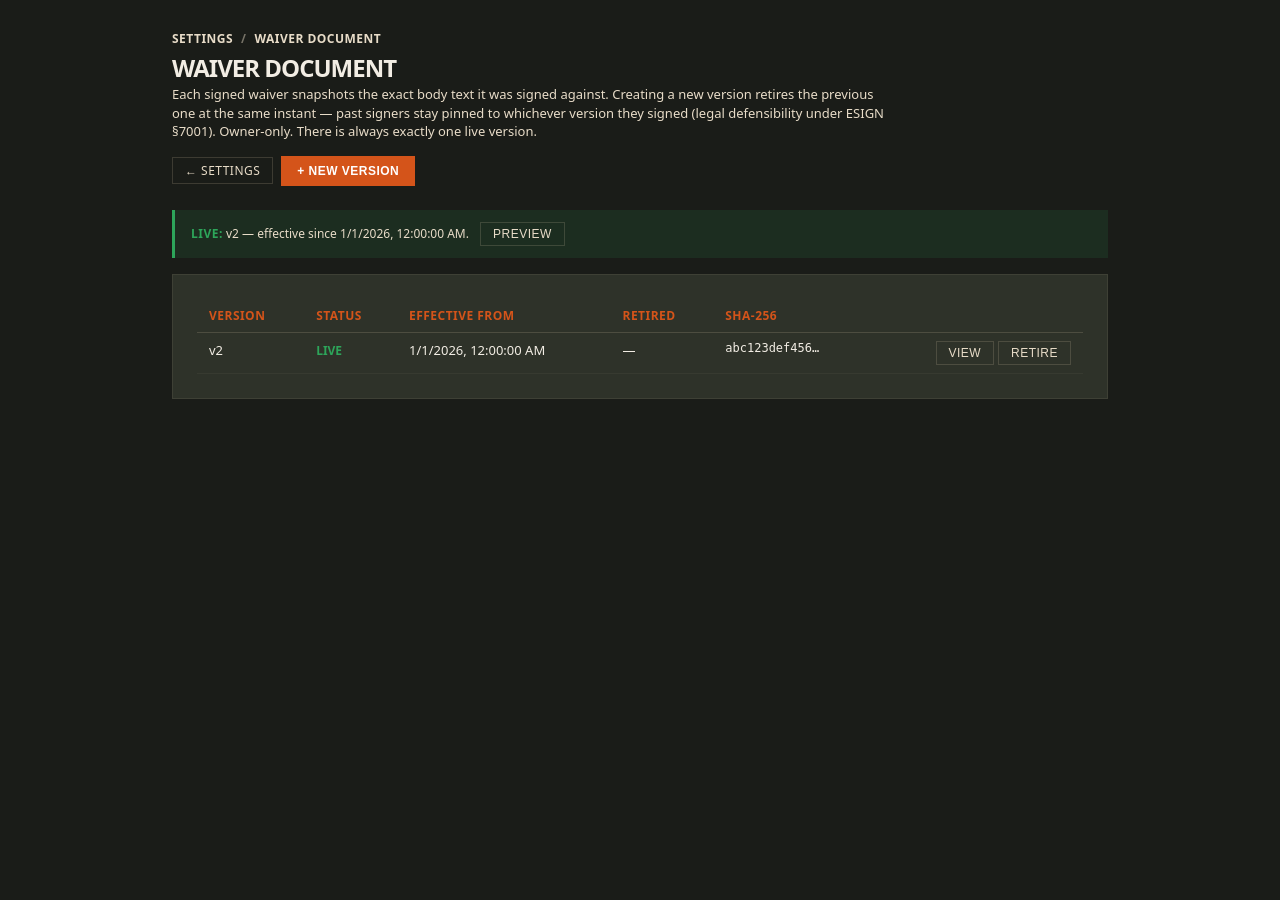
Scenario: AdminWaivers › opens the View modal with the full SHA-256 and rendered body
Click the button "View" at (965, 353), box [936, 341, 994, 365]
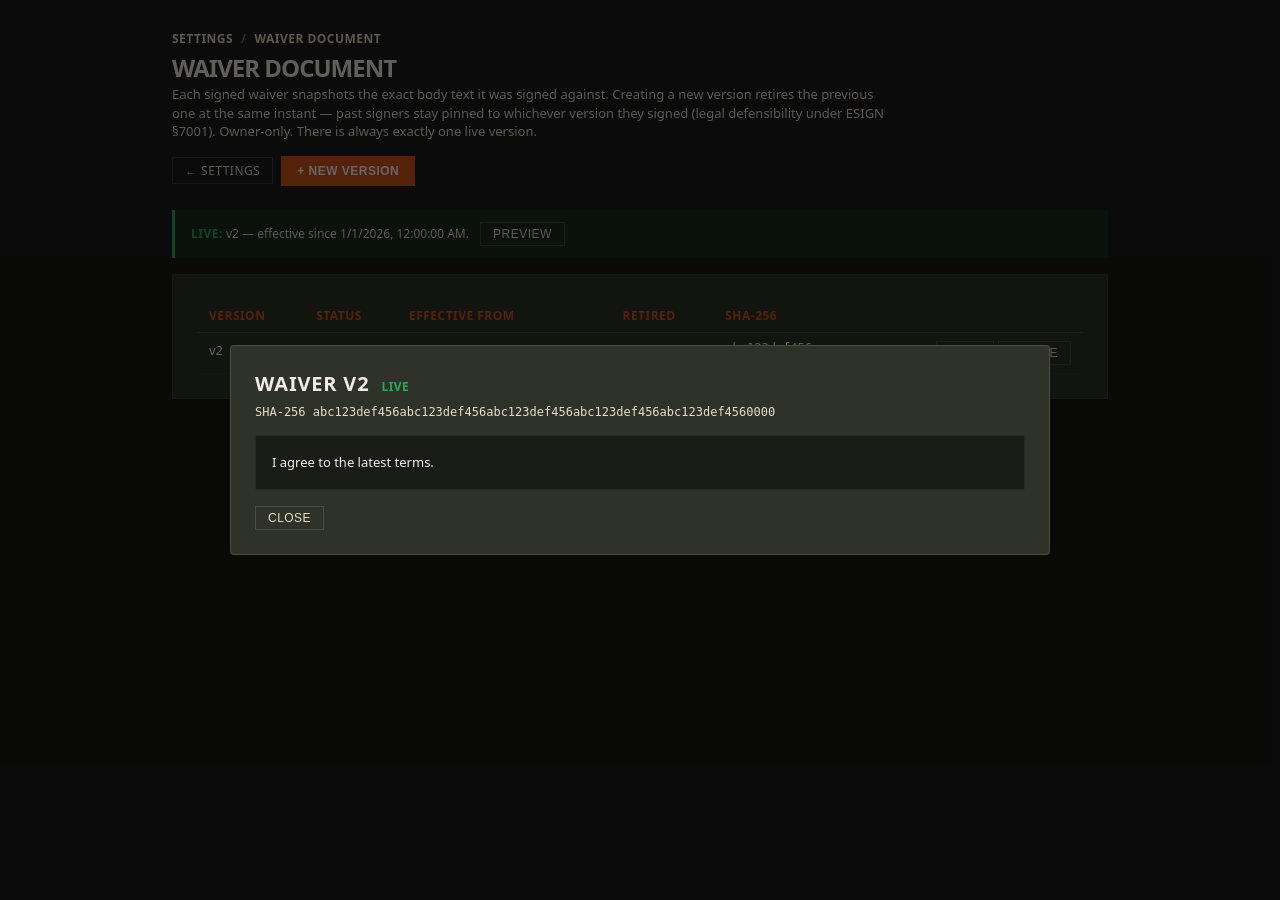
Check: the text "I agree to the latest terms." is shown, box [272, 453, 434, 471]
Check: the text "abc123def456abc123def456abc123def456abc123def456abc123def4560000" is shown, box [313, 405, 775, 419]
